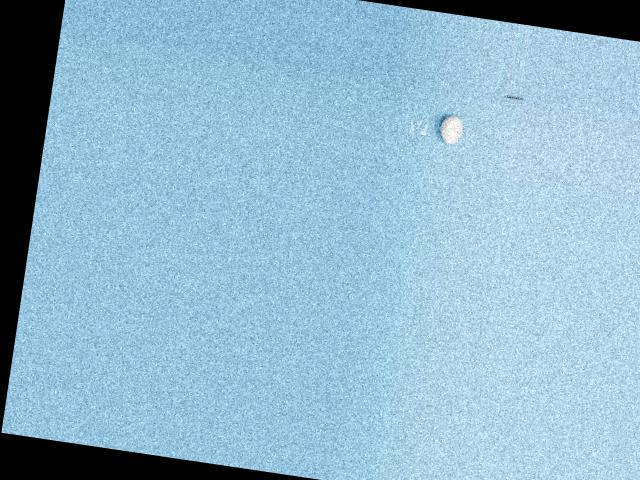egg: (439, 114, 464, 144)
